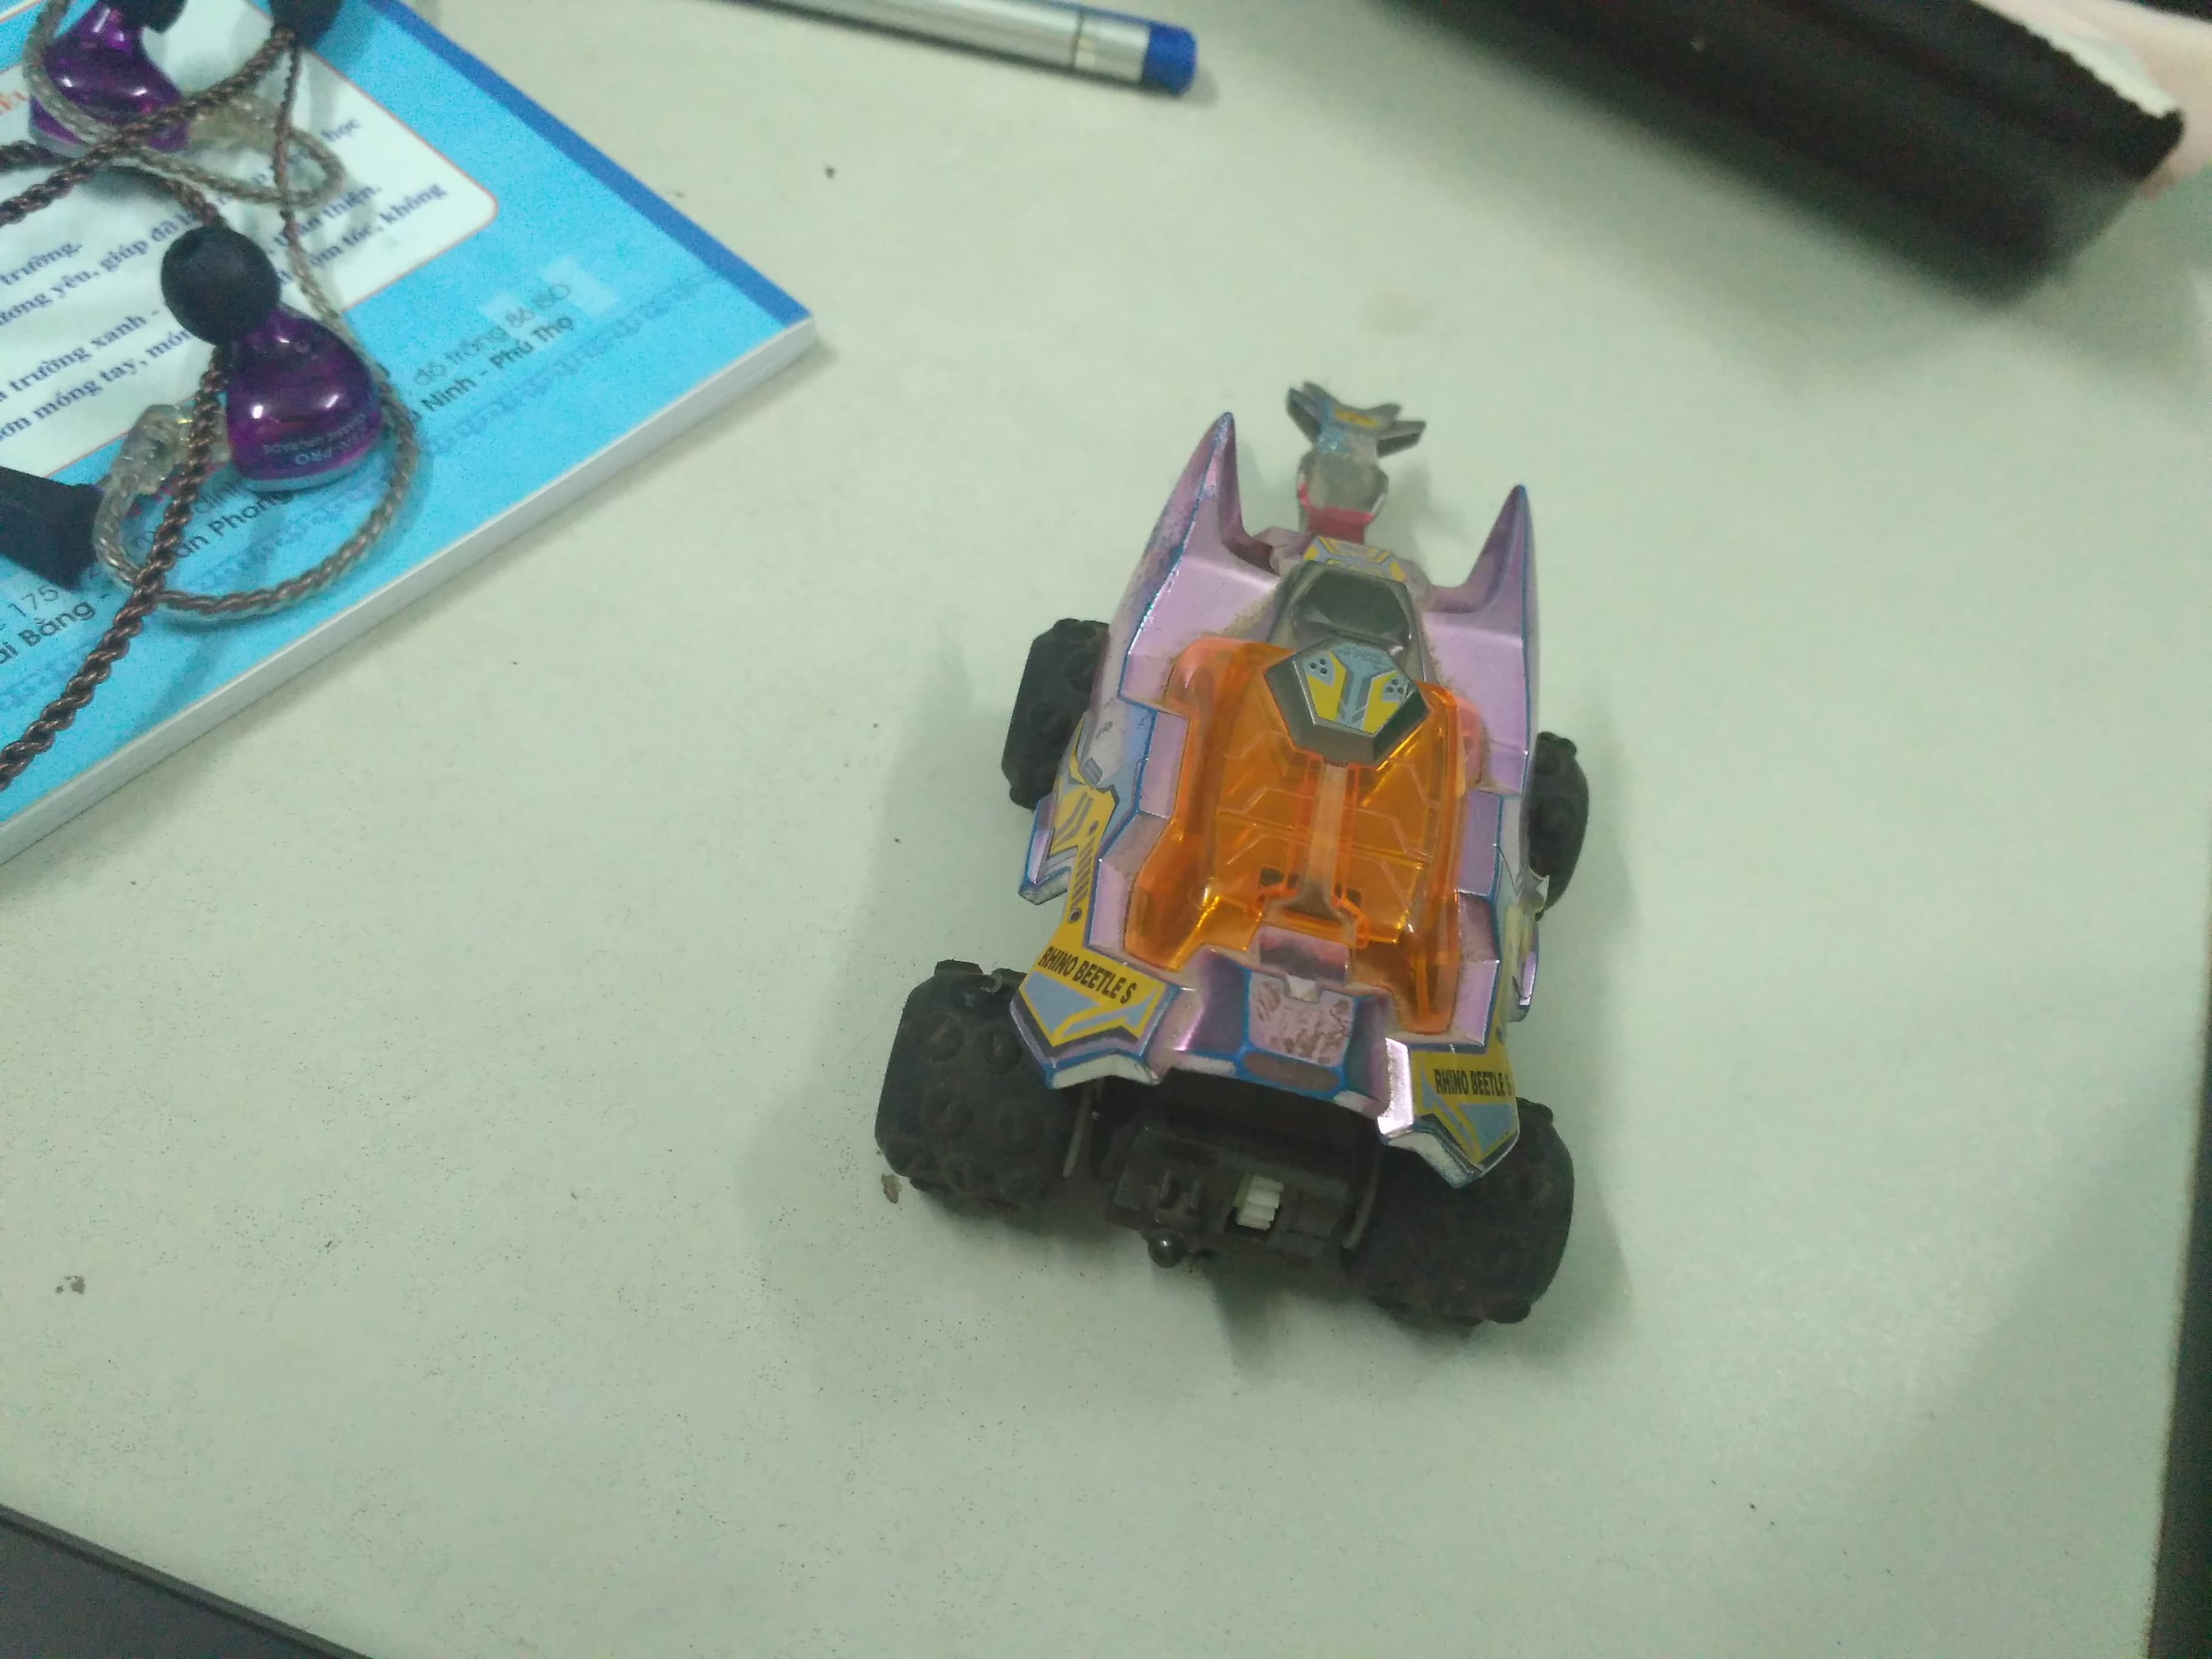rhino: (859, 373, 1602, 1340)
